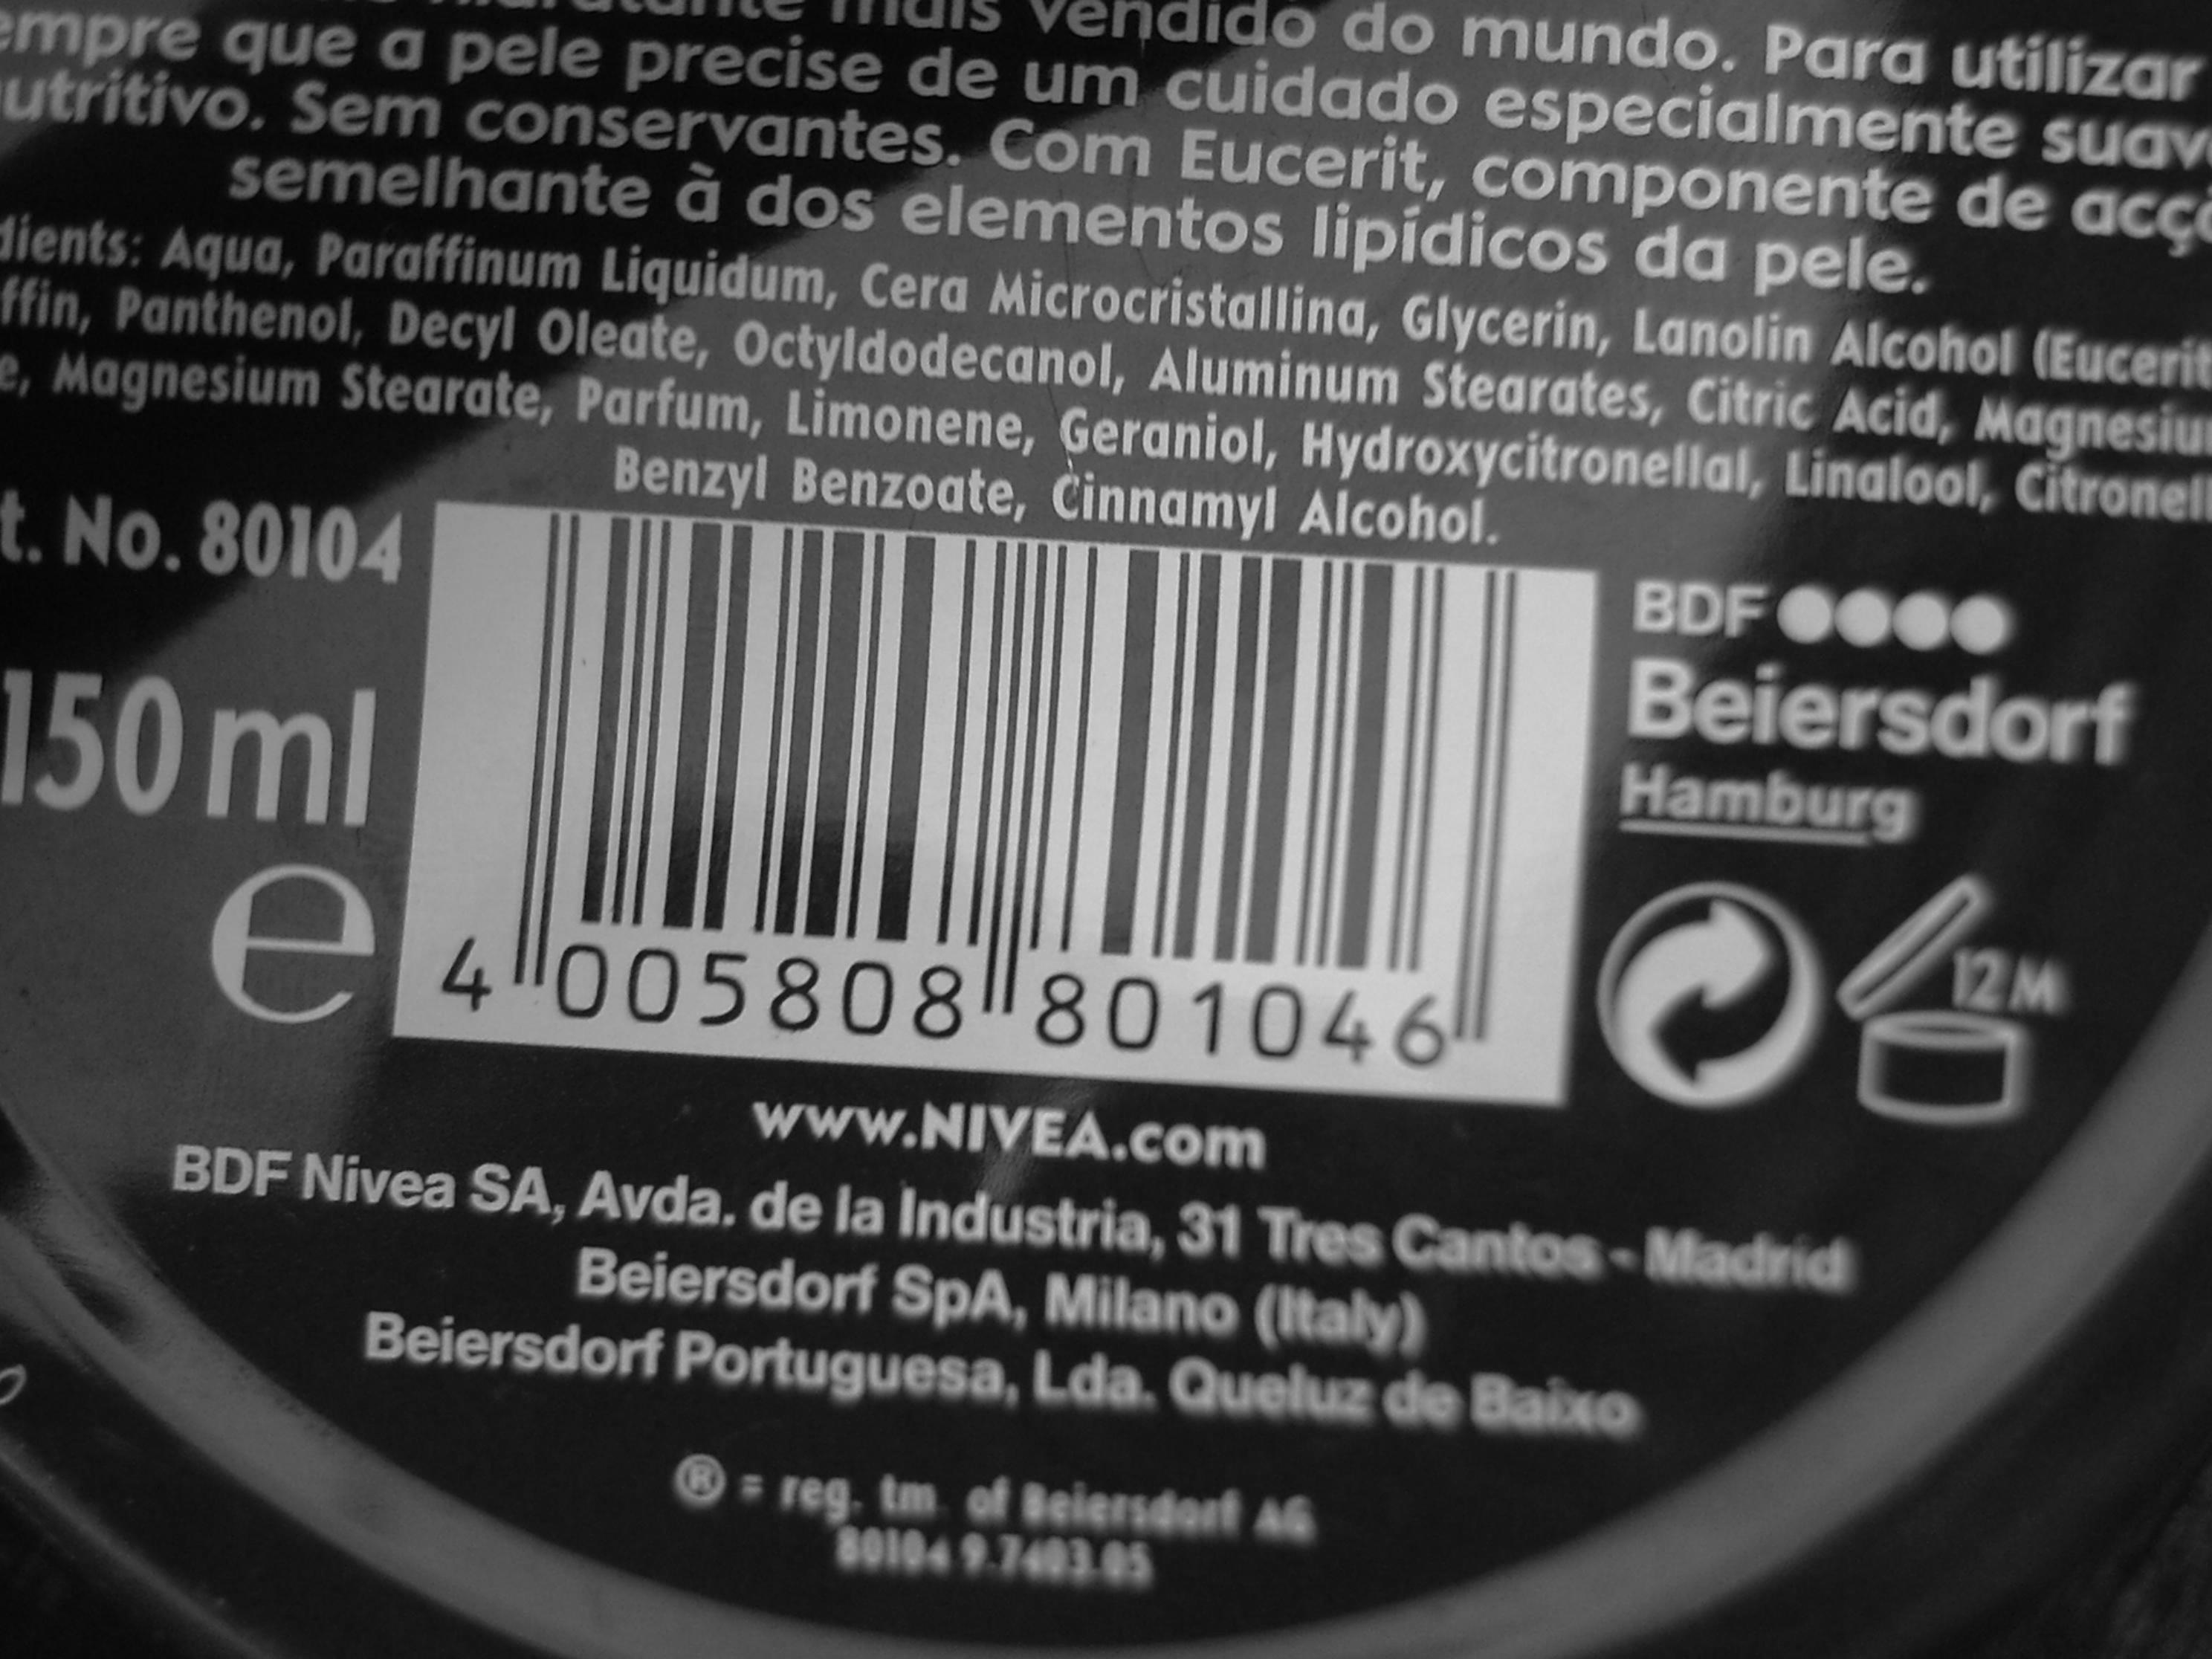Barcode: (469, 519, 1524, 1070)
